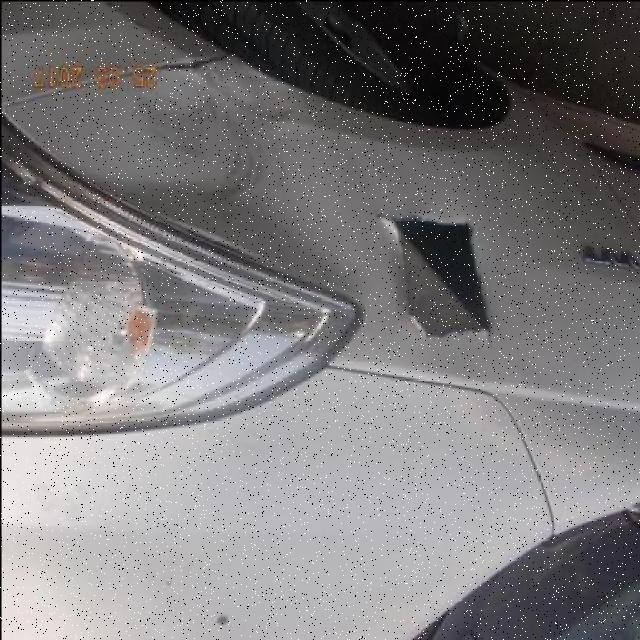damage: (119, 53, 354, 286), (371, 205, 497, 347)
